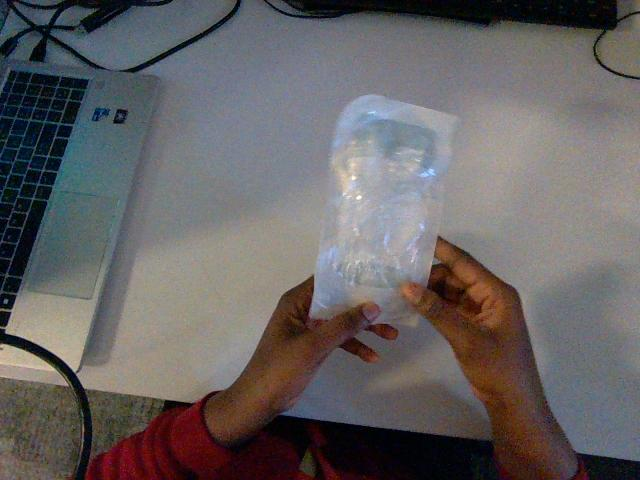gallipot: (310, 95, 456, 324)
